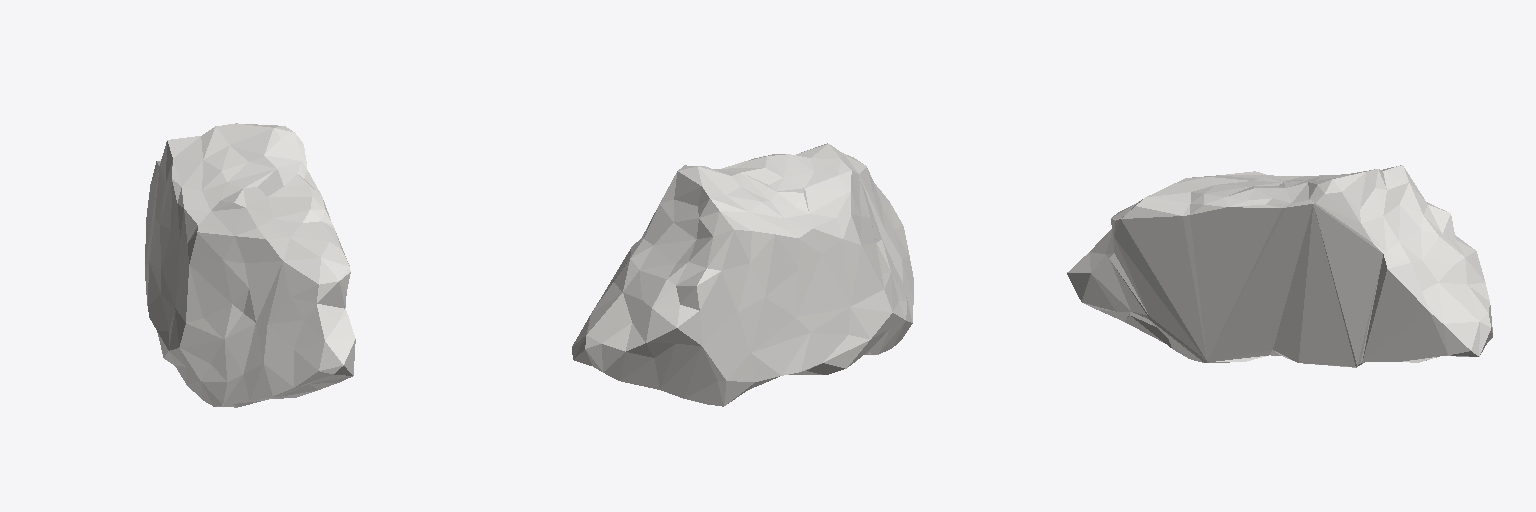
The model's file is stone.obj.
The picture shows the model from 3 angles: view 1: azimuth 30°, elevation 25°; view 2: azimuth 150°, elevation 25°; view 3: azimuth 270°, elevation 25°; orthographic projection.
Parts seen in each view (by area): view 1: skpD4_001; view 2: skpD4_001; view 3: skpD4_001.
Boxes of the visible parts, <box> form: skpD4_001: <box>145,123,355,407</box>; skpD4_001: <box>572,143,913,406</box>; skpD4_001: <box>1067,165,1492,367</box>.
Size of the model in its own units: 0.4565 by 0.425 by 0.8379.